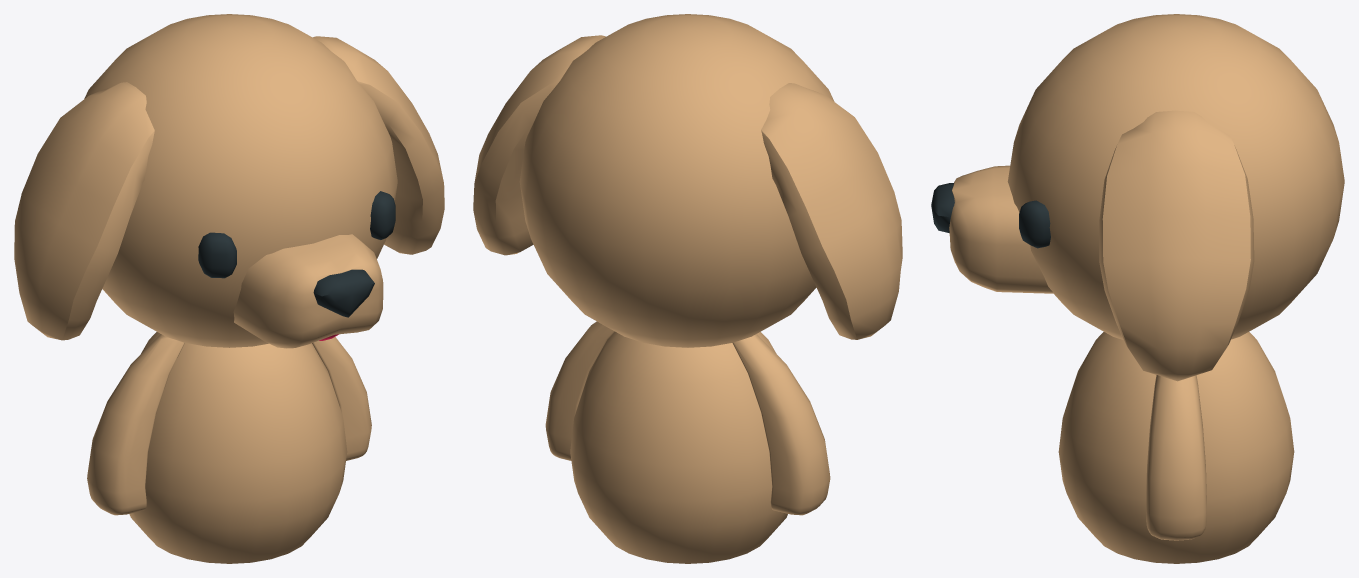
File: dog.glb
3 views of the same model, side by side, from view 1: azimuth 30°, elevation 25°; view 2: azimuth 150°, elevation 25°; view 3: azimuth 270°, elevation 25° (orthographic).
Visible parts, largest first — view 1: character_dogHead, character_dog, character_dogArmRight, character_dogArmLeft; view 2: character_dogHead, character_dog, character_dogArmRight, character_dogArmLeft; view 3: character_dogHead, character_dog, character_dogArmLeft.
Part boxes in pixels (box(x1,y1,x2,y2)): character_dogHead: box(14, 14, 444, 348); character_dog: box(129, 332, 347, 563); character_dogArmRight: box(87, 334, 184, 515); character_dogArmLeft: box(312, 337, 371, 460); character_dogHead: box(473, 14, 902, 347); character_dog: box(570, 332, 787, 563); character_dogArmRight: box(732, 334, 830, 515); character_dogArmLeft: box(545, 321, 614, 460); character_dogHead: box(931, 14, 1344, 381); character_dog: box(1058, 332, 1294, 563); character_dogArmLeft: box(1146, 375, 1206, 540).
Size of the model in its own units: 1.39 by 1.64 by 1.23.
